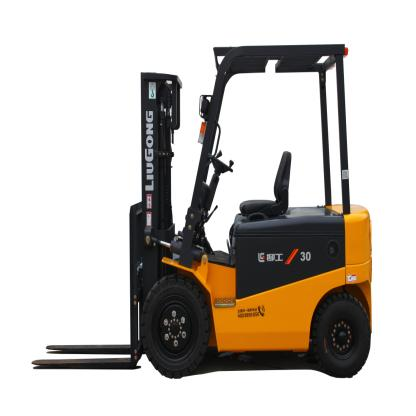forklift: (31, 41, 372, 381)
